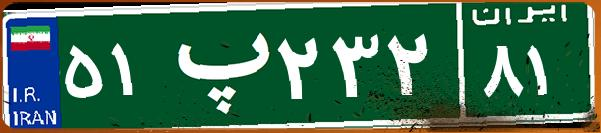1: (110, 28, 158, 105), (525, 38, 570, 115)
2: (385, 28, 445, 110), (273, 28, 330, 110)
3: (330, 28, 385, 110)
5: (57, 26, 110, 107)
8: (475, 38, 525, 113)
پ: (158, 15, 273, 115)
